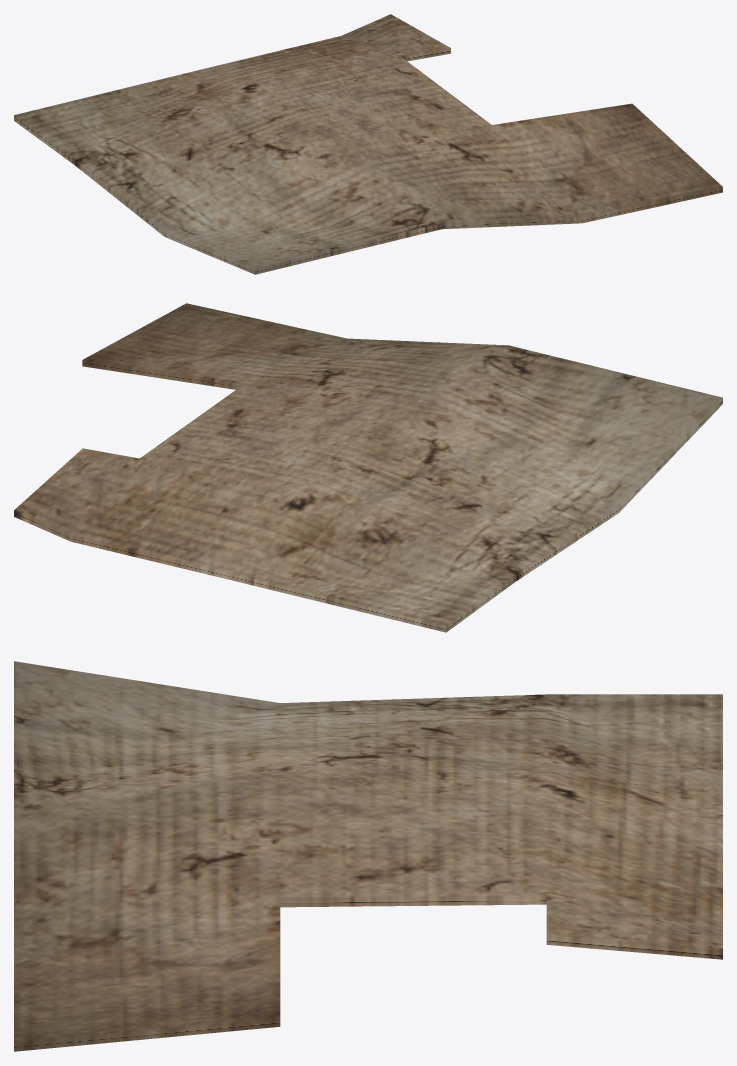
Rendered from Garbage1_17.fbx.
The picture shows the model from 3 angles, top to bottom: view 1: azimuth 30°, elevation 25°; view 2: azimuth 150°, elevation 25°; view 3: azimuth 270°, elevation 25°; orthographic projection. The views are drawn at different scales.
Visible parts, largest first — view 1: polySurface24; view 2: polySurface24; view 3: polySurface24.
Boxes of the visible parts, x1,y1,x2,y2 form: polySurface24: (14,14,722,274); polySurface24: (14,303,722,632); polySurface24: (14,661,722,1051).
Bounding box in the file's own units: 2.6 × 0.2557 × 2.32.
